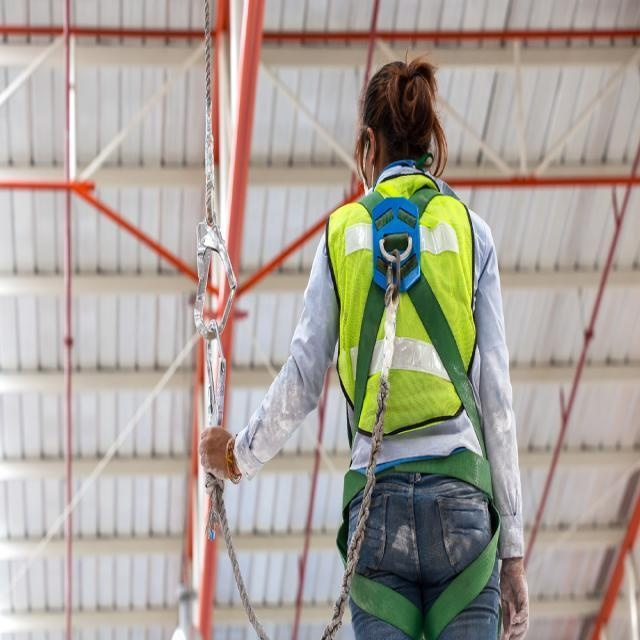Arnes_seguridad: (340, 177, 502, 640)
